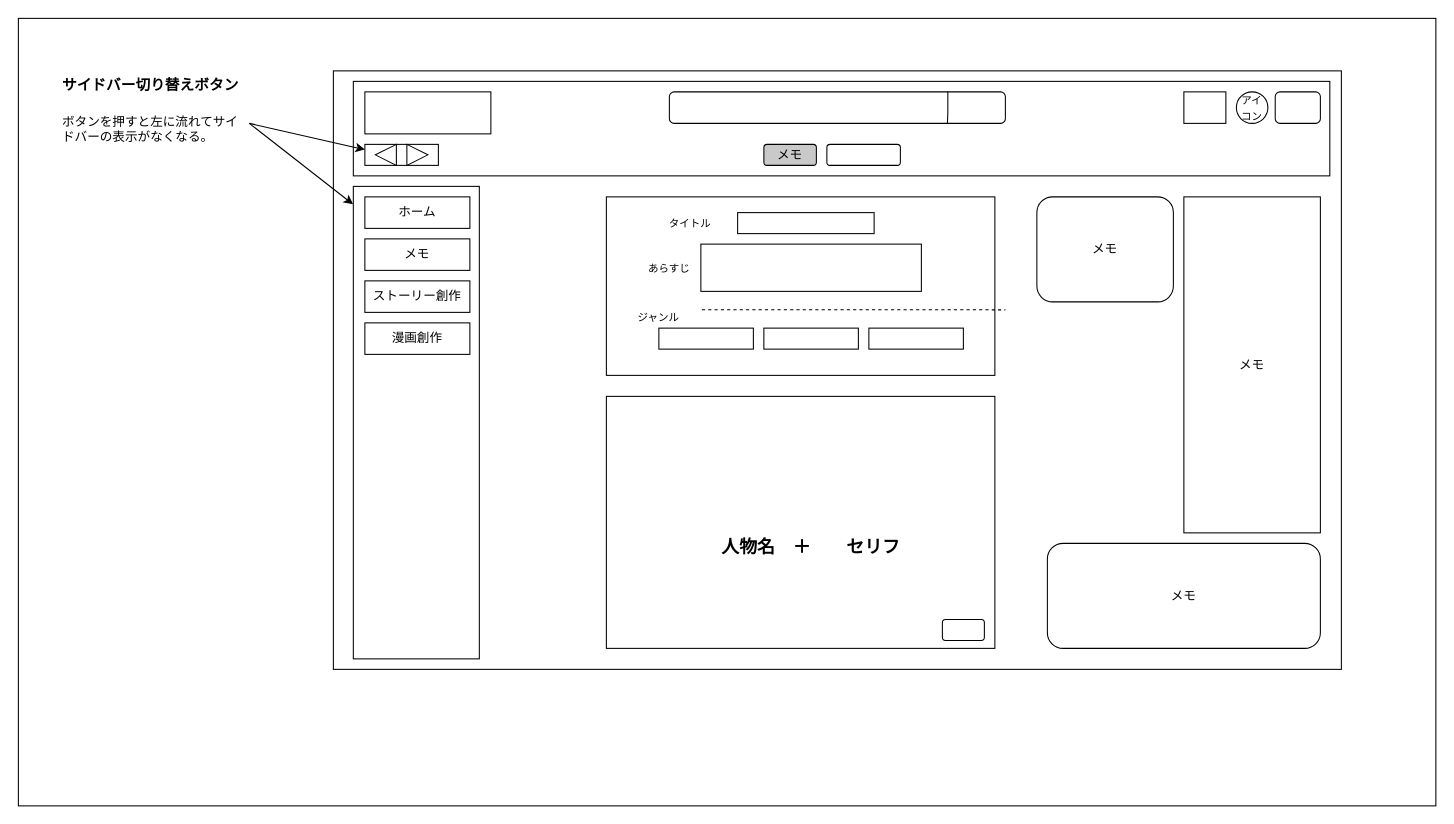
This 1454x824 diagram has some shape labels left out. Here are the shapes that lost their labels. From the top down, the box of each, then its label:
(364, 91, 491, 134): LOGO
(1183, 91, 1226, 123): 設定
(1274, 91, 1320, 123): ログアウト
(826, 143, 900, 165): ストーリー
(941, 618, 984, 640): 保存
